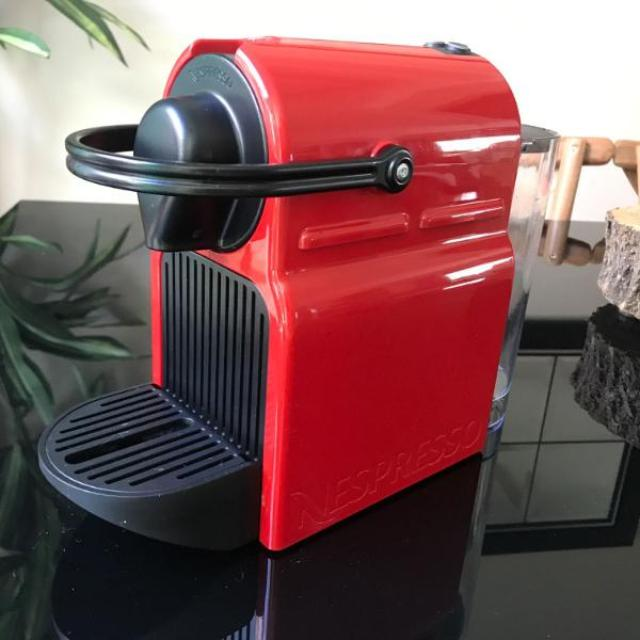Coffee-Machine: (36, 26, 528, 556)
